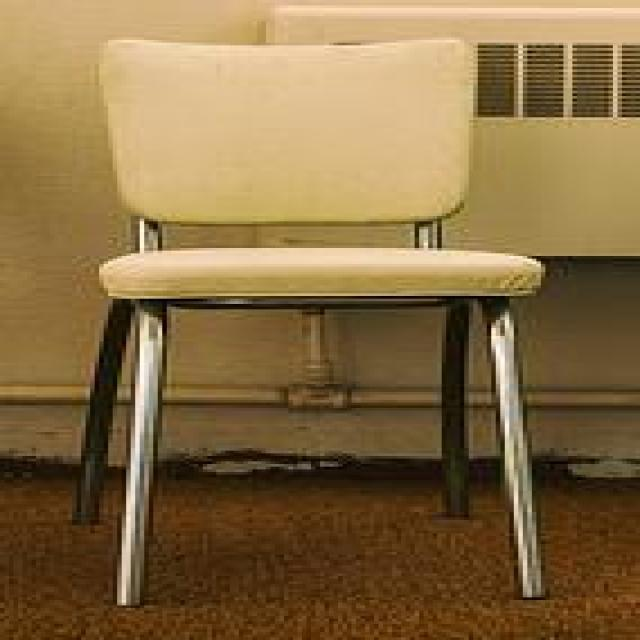chair: (72, 35, 545, 605)
